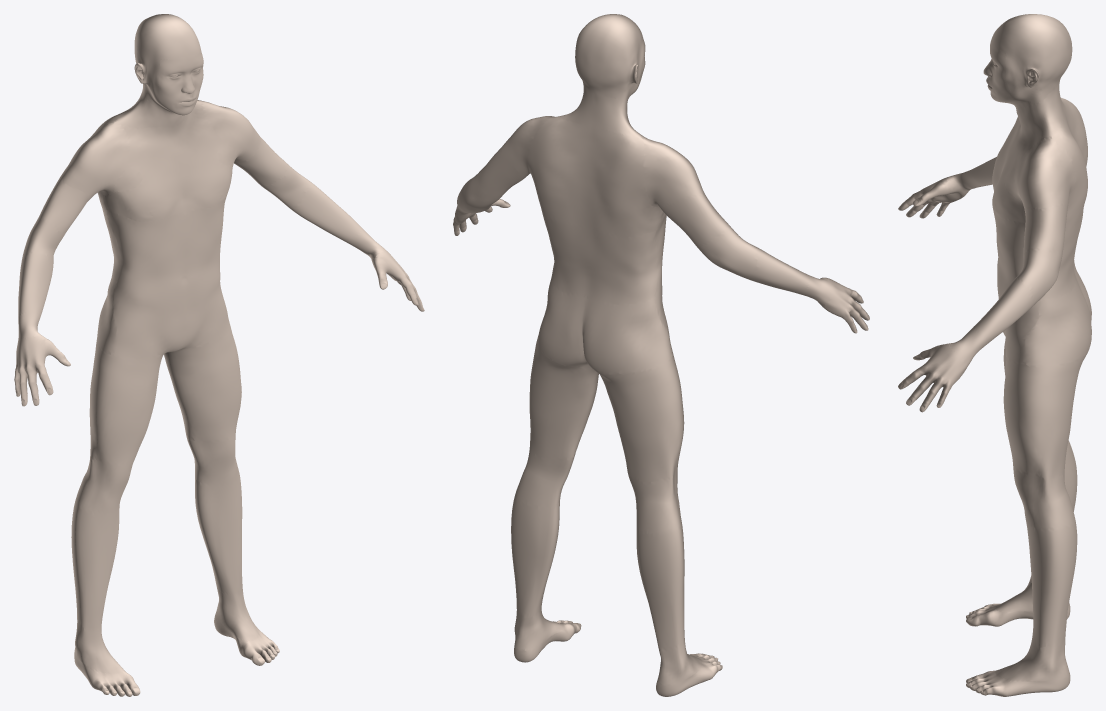
Rendered from body.glb.
The picture shows the model from 3 angles, left to right: view 1: azimuth 30°, elevation 25°; view 2: azimuth 150°, elevation 25°; view 3: azimuth 270°, elevation 25°; orthographic projection.
Visible parts, largest first — view 1: abdomen_r, chest, thigh_r, thigh_l, abdomen_l, lower_leg_r, lower_leg_l, head, shoulder_r, face, knee_r, hand_r (+15 smaller); view 2: upper_back, lower_back, thigh_r, hip_r, thigh_l, head, lower_leg_r, lower_leg_l, hip_l, shoulder_r, knee_r, knee_l (+13 smaller); view 3: thigh_l, head, lower_leg_l, hip_l, shoulder_l, abdomen_l, knee_l, hand_l, chest, upper_back, upper_arm_l, ankle_l (+13 smaller).
Part boxes in pixels (<box>): abdomen_r: <box>106,211,187,358</box>; chest: <box>101,107,233,221</box>; thigh_r: <box>89,341,163,465</box>; thigh_l: <box>164,327,241,441</box>; abdomen_l: <box>177,200,230,350</box>; lower_leg_r: <box>71,499,119,629</box>; lower_leg_l: <box>195,475,242,595</box>; head: <box>134,14,200,112</box>; shoulder_r: <box>61,122,129,197</box>; face: <box>149,50,203,115</box>; knee_r: <box>76,459,133,513</box>; hand_r: <box>14,336,70,406</box>; upper_back: <box>528,118,662,236</box>; lower_back: <box>542,214,657,304</box>; thigh_r: <box>599,353,684,482</box>; hip_r: <box>582,297,672,374</box>; thigh_l: <box>529,341,598,459</box>; head: <box>575,14,644,103</box>; lower_leg_r: <box>636,524,685,649</box>; lower_leg_l: <box>511,494,559,617</box>; hip_l: <box>536,280,591,368</box>; shoulder_r: <box>642,136,703,208</box>; knee_r: <box>628,465,681,534</box>; knee_l: <box>515,446,575,506</box>; thigh_l: <box>1003,354,1086,479</box>; head: <box>990,14,1072,103</box>; lower_leg_l: <box>1026,522,1077,648</box>; hip_l: <box>1022,278,1091,366</box>; shoulder_l: <box>1014,137,1075,209</box>; abdomen_l: <box>993,211,1040,363</box>; knee_l: <box>1013,469,1075,529</box>; hand_l: <box>898,344,967,412</box>; chest: <box>992,119,1042,222</box>; upper_back: <box>1053,98,1087,229</box>; upper_arm_l: <box>1005,170,1068,254</box>; ankle_l: <box>995,642,1069,681</box>.
Bounding box in the file's own units: 1.15 × 1.75 × 0.4812.
